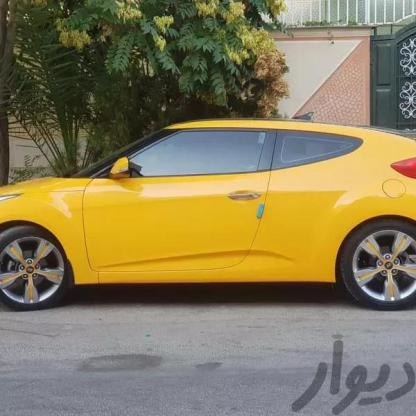Car: (0, 115, 416, 314)
